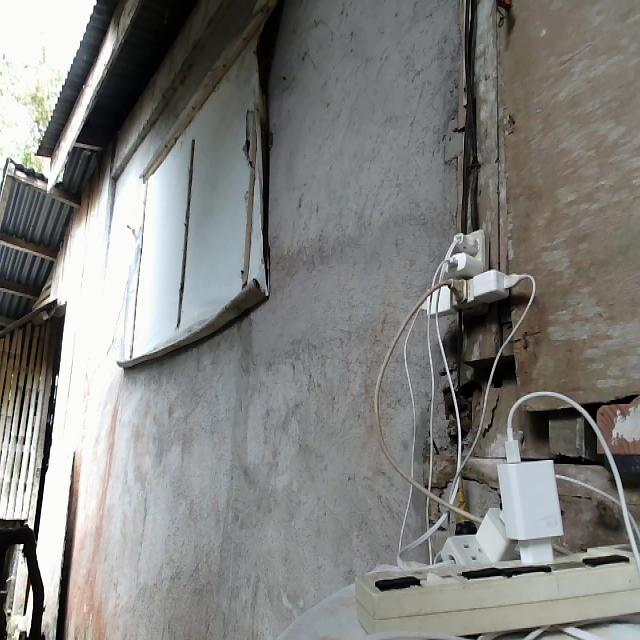-: (420, 227, 517, 316)
